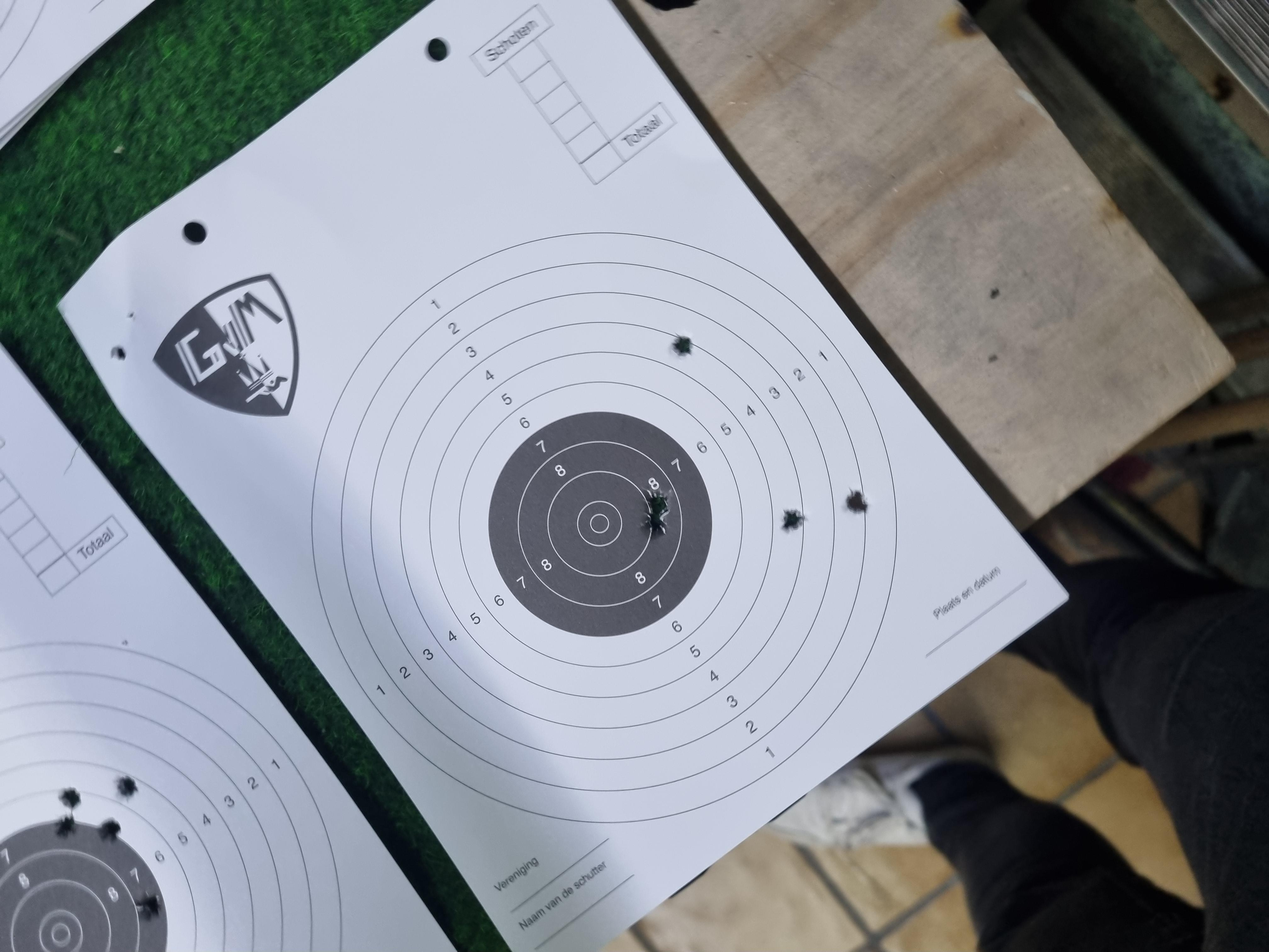hole: (35, 100, 82, 123), (200, 84, 240, 104), (556, 584, 592, 605), (146, 70, 180, 92), (583, 485, 622, 504), (550, 480, 584, 501), (147, 39, 181, 59), (582, 633, 618, 651), (791, 502, 824, 521), (189, 43, 220, 61), (788, 83, 808, 95)
